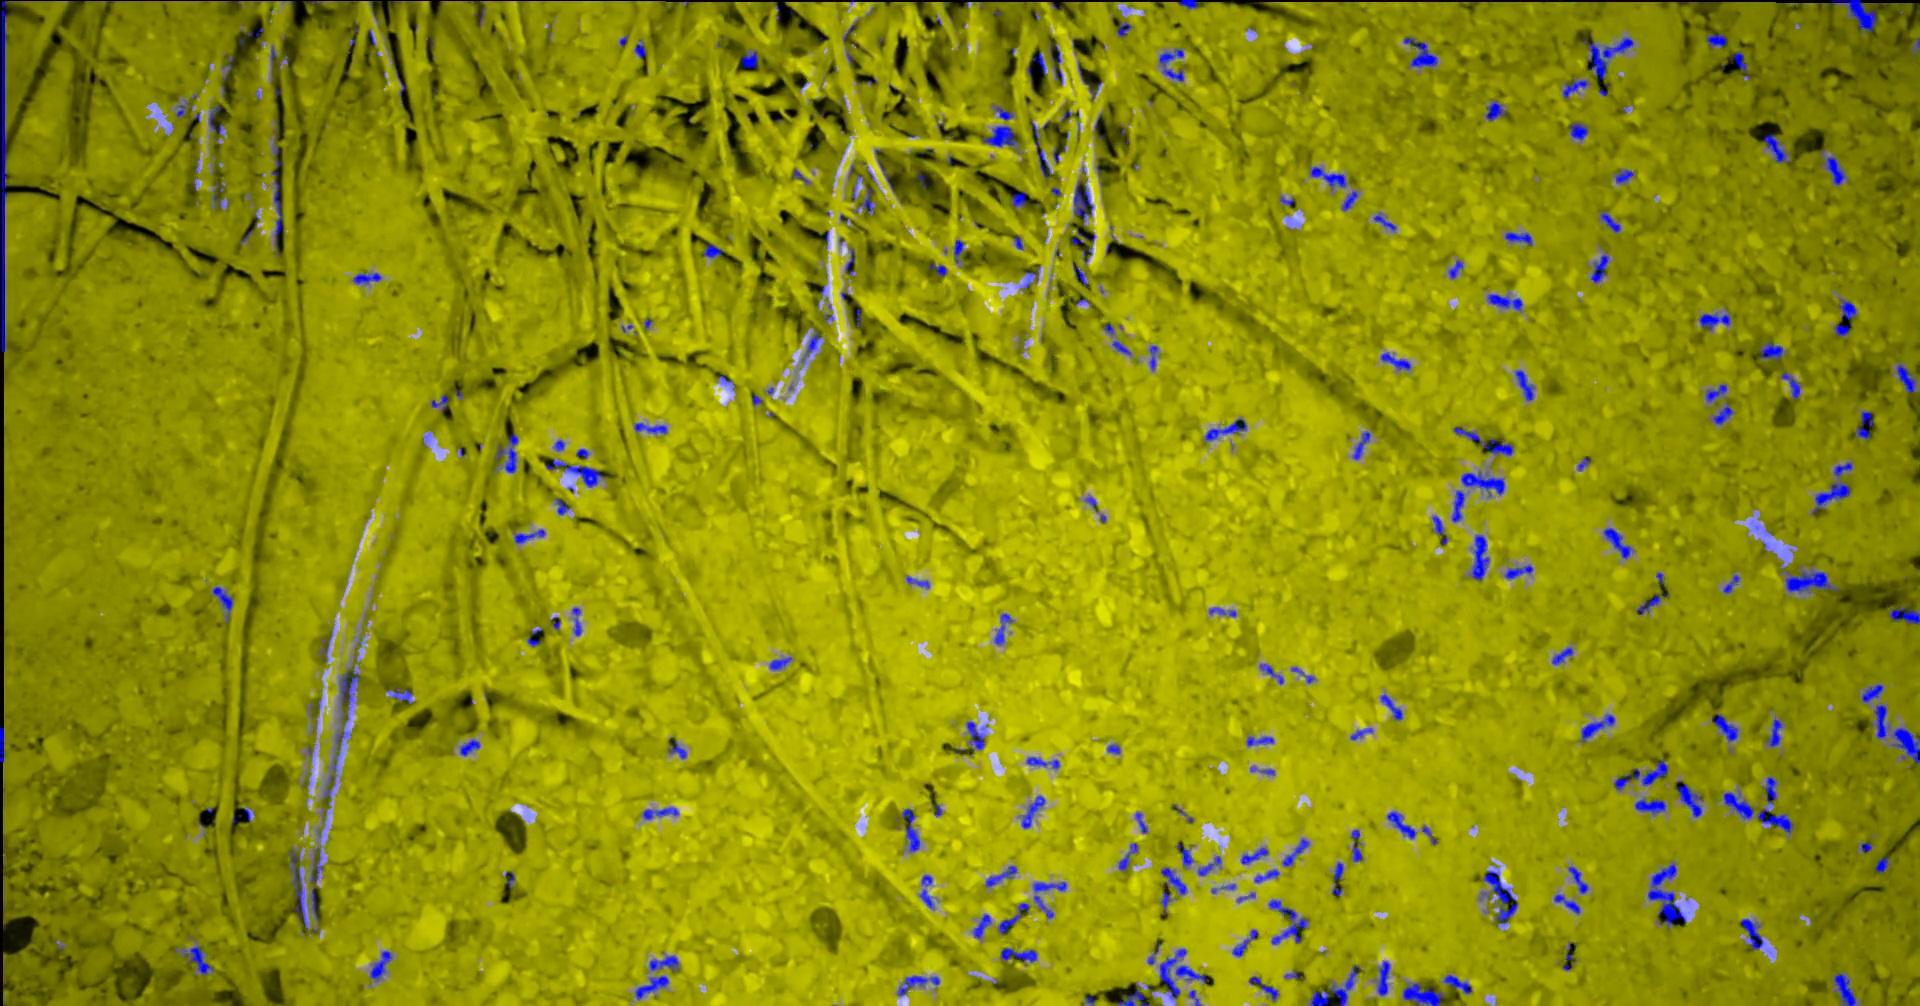ant: (1816, 0, 1911, 30), (1722, 793, 1793, 833), (1647, 862, 1685, 927), (1159, 948, 1206, 998), (1582, 37, 1633, 80), (1811, 461, 1851, 513), (1309, 964, 1360, 1005), (324, 727, 350, 798), (1483, 870, 1517, 923), (1267, 899, 1307, 944), (1453, 426, 1512, 455), (545, 459, 604, 486), (1613, 760, 1667, 789), (288, 848, 307, 929), (270, 138, 282, 254), (1032, 882, 1065, 918), (1030, 122, 1051, 178), (1784, 570, 1839, 592), (339, 668, 359, 723), (1403, 36, 1437, 67), (1460, 471, 1503, 495), (1891, 727, 1919, 763), (1675, 780, 1702, 817), (494, 432, 518, 473), (998, 902, 1029, 934), (1580, 714, 1614, 742), (1402, 982, 1444, 1005), (183, 945, 213, 976), (1204, 418, 1246, 439), (1470, 533, 1490, 580), (1603, 527, 1630, 558), (1385, 810, 1416, 838), (897, 976, 938, 996), (1158, 48, 1183, 81), (1073, 180, 1092, 224), (1763, 132, 1789, 163), (1832, 972, 1857, 1005), (982, 124, 1018, 146), (1309, 166, 1346, 188), (634, 976, 668, 998), (902, 808, 919, 851), (1021, 795, 1044, 828), (212, 586, 232, 622), (1710, 713, 1737, 741), (1283, 838, 1308, 866), (1232, 929, 1257, 956), (1248, 976, 1277, 1000), (1823, 155, 1846, 185), (1740, 918, 1763, 949), (1161, 868, 1186, 894), (1636, 593, 1669, 614), (985, 865, 1016, 887), (370, 950, 391, 981), (1870, 704, 1890, 738), (1514, 370, 1534, 400), (1117, 984, 1148, 1005), (1896, 363, 1916, 392), (1487, 293, 1523, 310), (1888, 605, 1919, 624), (1727, 51, 1749, 77), (1562, 77, 1589, 99), (1698, 312, 1730, 330), (1380, 351, 1410, 370), (1380, 694, 1402, 719), (994, 614, 1012, 644), (1634, 796, 1665, 814), (1568, 866, 1589, 893), (1780, 371, 1799, 399), (1854, 412, 1873, 439), (1117, 842, 1137, 870), (1443, 974, 1470, 993), (919, 874, 935, 908), (1049, 43, 1062, 84), (999, 948, 1036, 962), (1553, 894, 1580, 913), (1431, 514, 1448, 545), (1590, 254, 1608, 282), (1352, 431, 1370, 459), (966, 721, 984, 749), (1258, 663, 1283, 683), (1197, 855, 1222, 875), (1765, 716, 1782, 746), (221, 55, 232, 97), (208, 105, 222, 140), (641, 807, 678, 819), (1599, 211, 1620, 232), (1712, 403, 1733, 424), (648, 955, 678, 970), (310, 847, 323, 883), (1239, 847, 1269, 862), (1759, 340, 1782, 359), (971, 915, 990, 937), (1377, 960, 1389, 995), (1070, 227, 1095, 245), (513, 528, 543, 542), (1026, 756, 1059, 768), (1176, 842, 1192, 868), (1331, 862, 1343, 895), (1837, 298, 1857, 320), (1862, 683, 1883, 702), (1373, 212, 1396, 230), (1451, 490, 1464, 522), (1350, 829, 1363, 861), (1503, 231, 1531, 245), (1503, 564, 1531, 578), (1484, 100, 1505, 119), (387, 687, 413, 702), (1704, 384, 1726, 401), (1550, 647, 1572, 664), (632, 422, 665, 433), (1072, 262, 1087, 286), (1010, 185, 1026, 207), (806, 330, 820, 356), (1764, 776, 1777, 804), (668, 739, 686, 758), (1568, 122, 1589, 138), (352, 272, 381, 283), (860, 188, 872, 213), (1341, 191, 1357, 210), (1722, 574, 1738, 593), (458, 739, 479, 754), (1032, 51, 1045, 75), (905, 575, 930, 588), (742, 51, 758, 69), (430, 394, 448, 410), (527, 627, 542, 647), (1255, 869, 1277, 882), (1705, 33, 1726, 47), (702, 243, 723, 257), (844, 246, 855, 274), (571, 607, 582, 635), (1562, 942, 1572, 970), (770, 657, 791, 669), (1350, 727, 1371, 739), (1246, 735, 1272, 746), (994, 105, 1013, 119), (1448, 259, 1462, 278), (927, 262, 946, 276), (1111, 340, 1130, 354), (952, 239, 964, 262), (310, 887, 317, 921), (1615, 169, 1633, 183), (1832, 323, 1850, 337), (1208, 607, 1236, 616), (1135, 812, 1147, 832), (555, 498, 569, 514), (1874, 856, 1888, 873), (1116, 22, 1131, 36), (177, 102, 190, 117), (1161, 890, 1170, 913), (1149, 345, 1157, 370), (634, 43, 645, 58), (1178, 0, 1197, 8), (0, 727, 4, 762)
